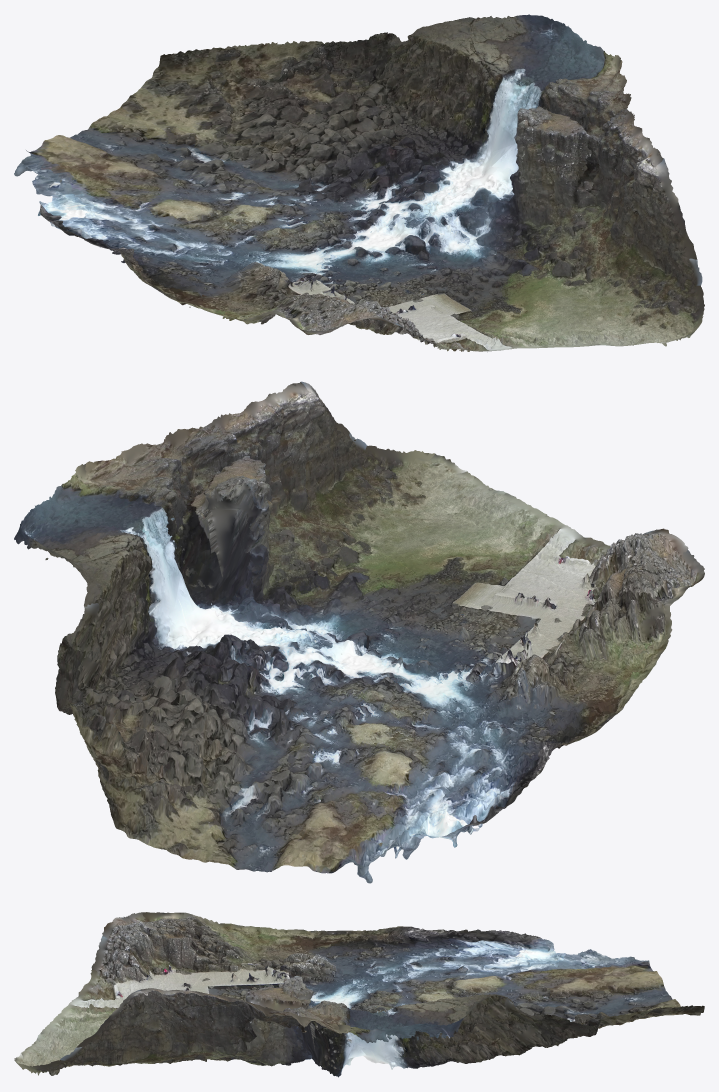
Rendered from waterfall_mountain_river.glb.
3 views of the same model, one above another, from view 1: azimuth 30°, elevation 25°; view 2: azimuth 150°, elevation 25°; view 3: azimuth 270°, elevation 25° (orthographic). The views are drawn at different scales.
Visible parts, largest first — view 1: Object_3, Object_5, Object_6, Object_4, Object_8, Object_7, Object_2, Object_9, Object_10, Object_11; view 2: Object_3, Object_7, Object_6, Object_4, Object_8, Object_2, Object_5, Object_9, Object_10, Object_11; view 3: Object_6, Object_7, Object_5, Object_3, Object_4, Object_9, Object_8, Object_10, Object_11, Object_2.
Part boxes in pixels (box(x1,y1,x2,y2)): Object_3: box(55, 14, 681, 343); Object_5: box(30, 15, 704, 351); Object_6: box(38, 23, 682, 346); Object_4: box(47, 40, 697, 326); Object_8: box(24, 17, 670, 345); Object_7: box(38, 53, 681, 339); Object_2: box(29, 69, 671, 348); Object_9: box(25, 26, 702, 351); Object_10: box(14, 22, 697, 351); Object_11: box(30, 28, 691, 352); Object_3: box(22, 459, 623, 860); Object_7: box(57, 413, 664, 872); Object_6: box(30, 399, 692, 849); Object_4: box(109, 381, 630, 856); Object_8: box(55, 406, 669, 865); Object_2: box(98, 429, 672, 866); Object_5: box(14, 433, 637, 873); Object_9: box(26, 407, 704, 879); Object_10: box(16, 396, 650, 883); Object_11: box(26, 393, 664, 882); Object_6: box(69, 912, 632, 1058); Object_7: box(44, 923, 641, 1077); Object_5: box(16, 924, 704, 1075); Object_3: box(14, 926, 703, 1065); Object_4: box(64, 933, 605, 1067); Object_9: box(14, 912, 665, 1074); Object_8: box(21, 922, 628, 1066); Object_10: box(27, 930, 662, 1076); Object_11: box(44, 927, 645, 1070); Object_2: box(71, 914, 627, 1068).
Bounding box in the file's own units: 19.89 × 5.9 × 29.55.
10 materials, 10 textured.
